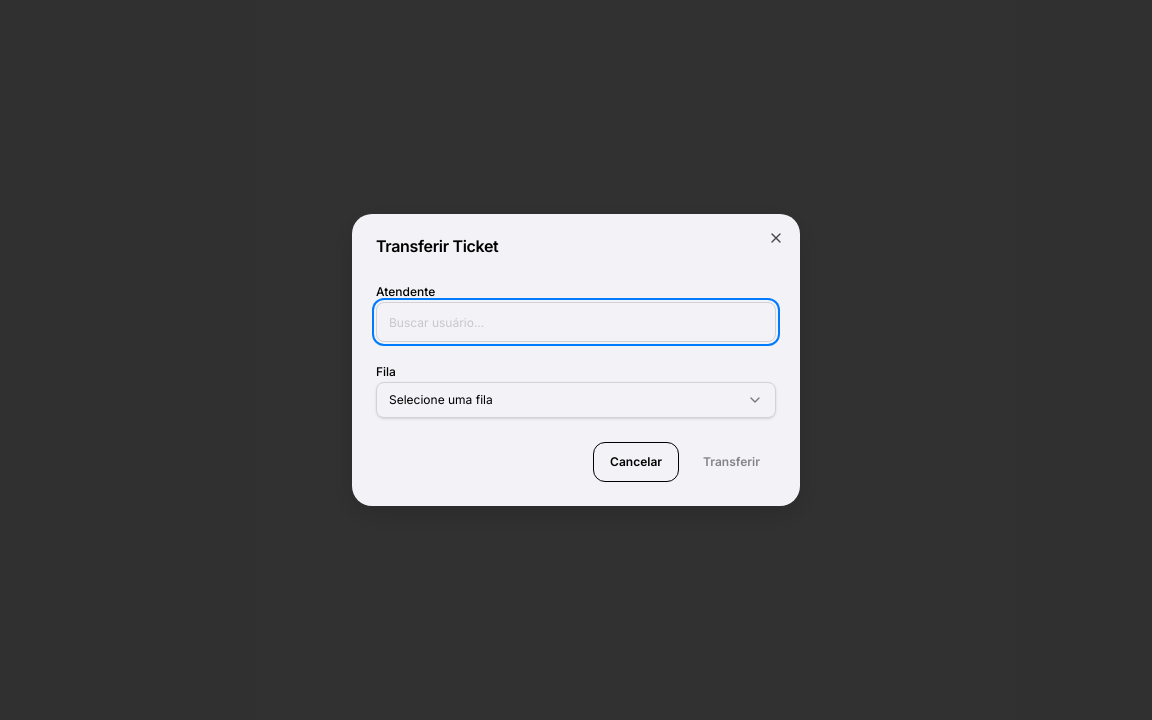
Test case: TransferTicketModal › exibe lista de usuários retornados pela API
This screenshot has width=1152, height=720.
Type "mar" into the field with placeholder "Buscar usuário...". click: (576, 322)
box: [376, 302, 776, 342]
Wait 600 ms
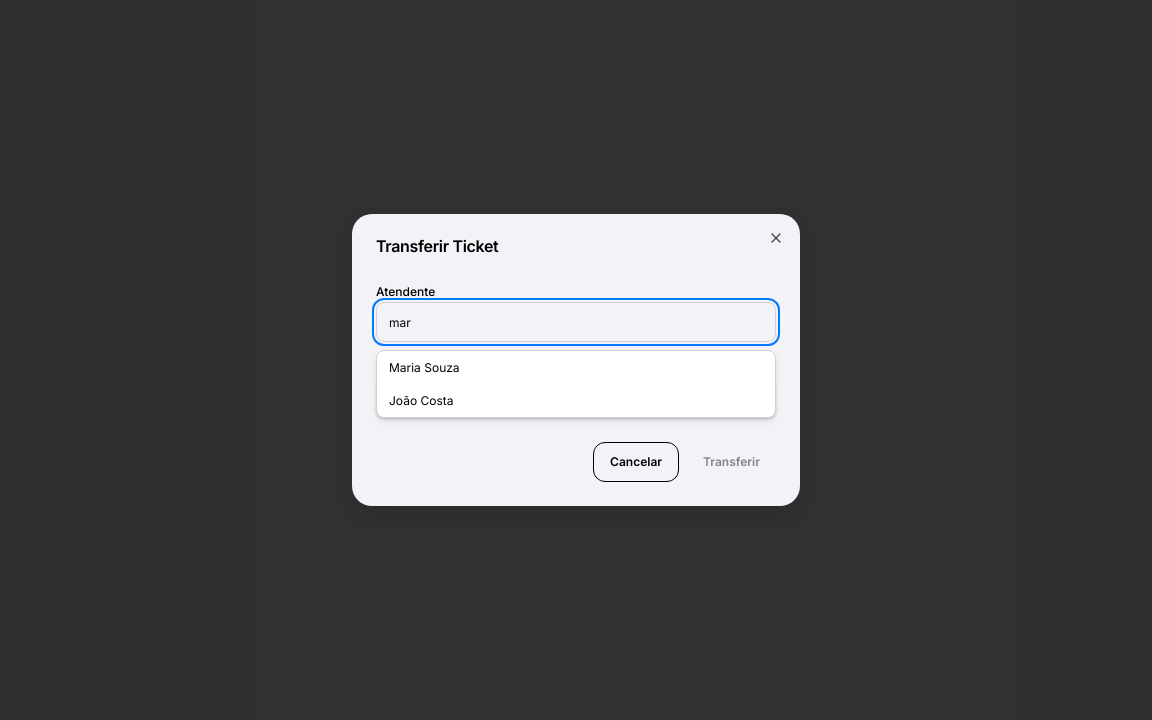
expect the text "Maria Souza" is shown: met, box [389, 360, 460, 375]
expect the text "João Costa" is shown: met, box [389, 393, 454, 408]
